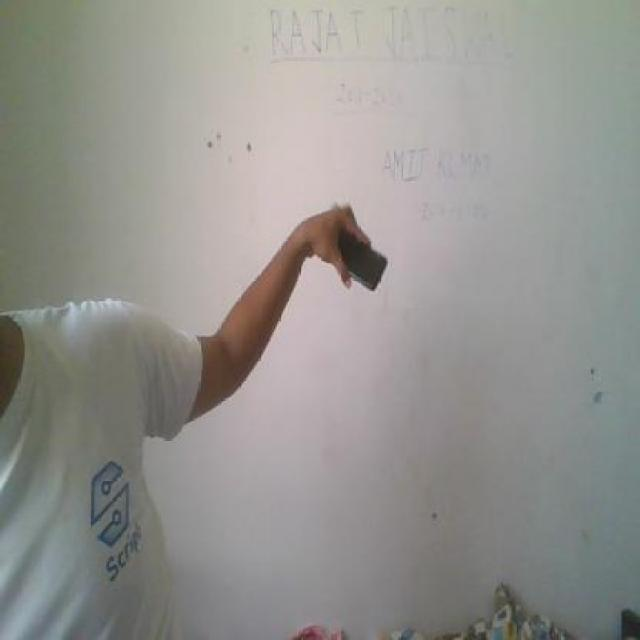Phone: (327, 228, 392, 294)
